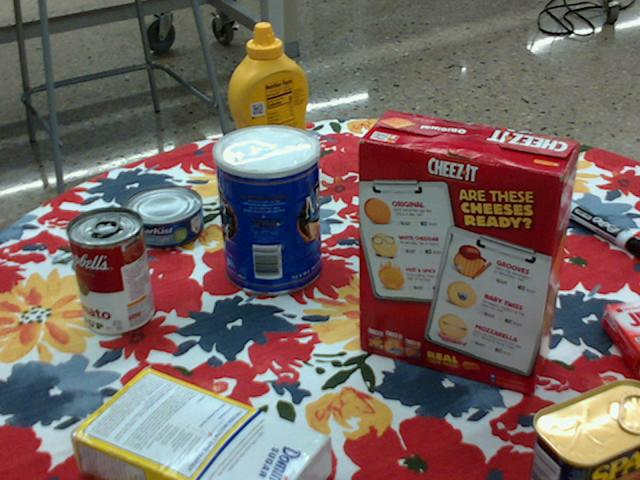cracker_box: (357, 112, 579, 398)
gelatin_box: (600, 302, 639, 376)
large_marker: (559, 200, 639, 258)
master_chef_can: (213, 124, 321, 296)
mug: (393, 136, 473, 219)
mustard_bottle: (229, 25, 313, 194)
potted_meat_can: (530, 378, 639, 479)
sugar_box: (69, 369, 331, 479)
tomato_soup_can: (67, 206, 153, 335)
tuna_fish_can: (124, 185, 205, 247)
